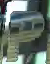Parking: (8, 10, 46, 63)
